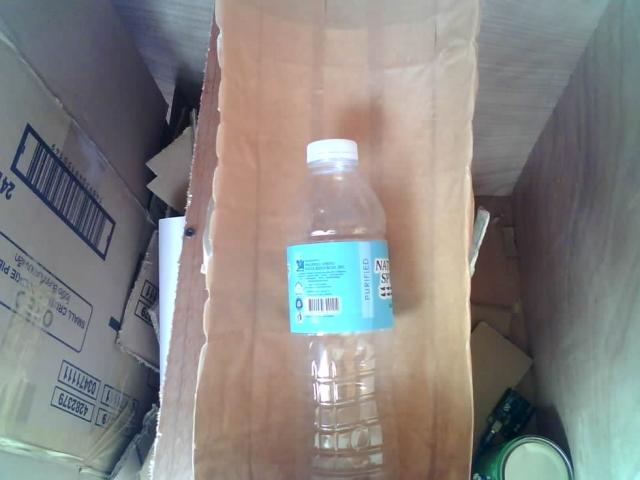small_bottle: (263, 130, 418, 480)
